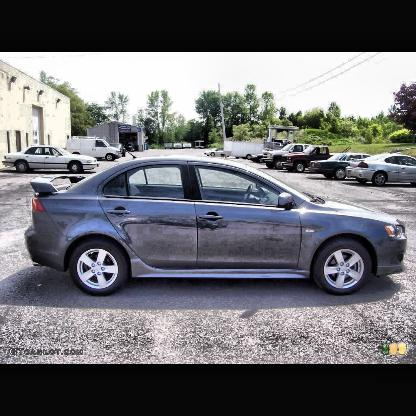Mitsubishi Lancer Sedan 2012: (26, 157, 408, 299)
